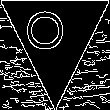O_E: (33, 15, 77, 58)
